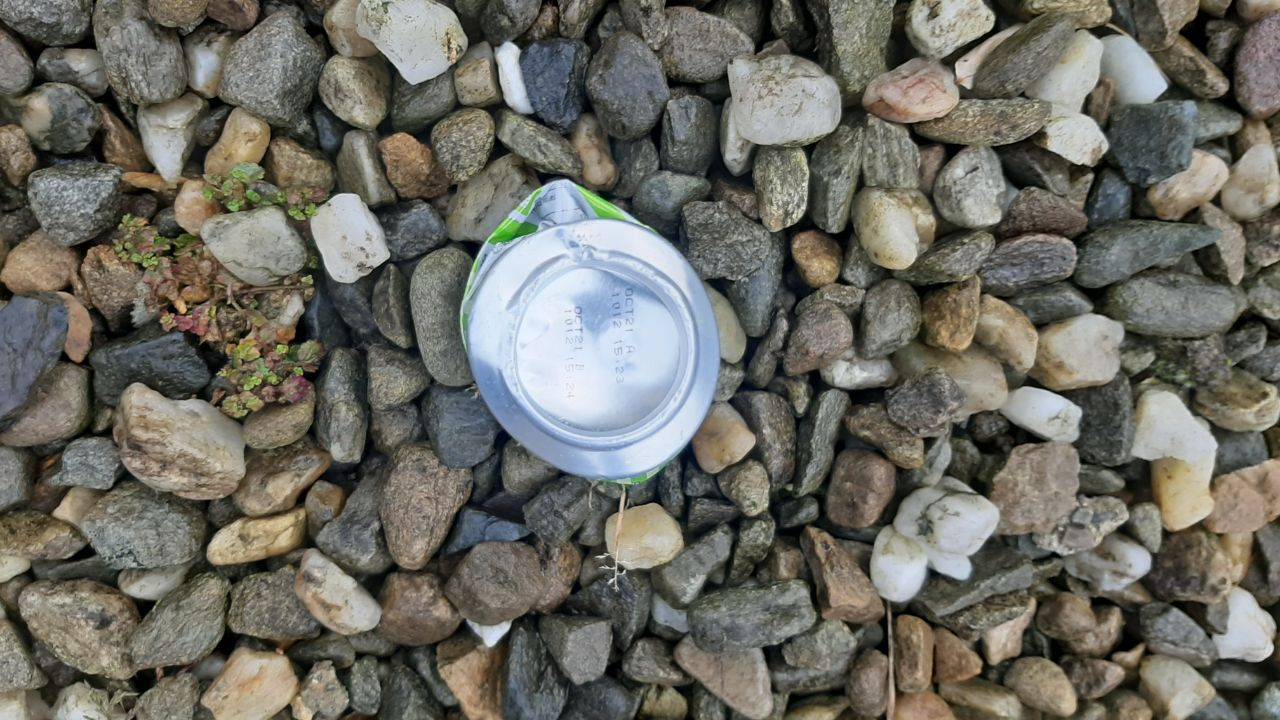Can: (457, 176, 722, 485)
